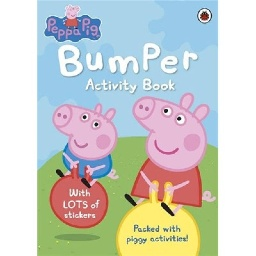Peppa: (125, 93, 218, 216)
